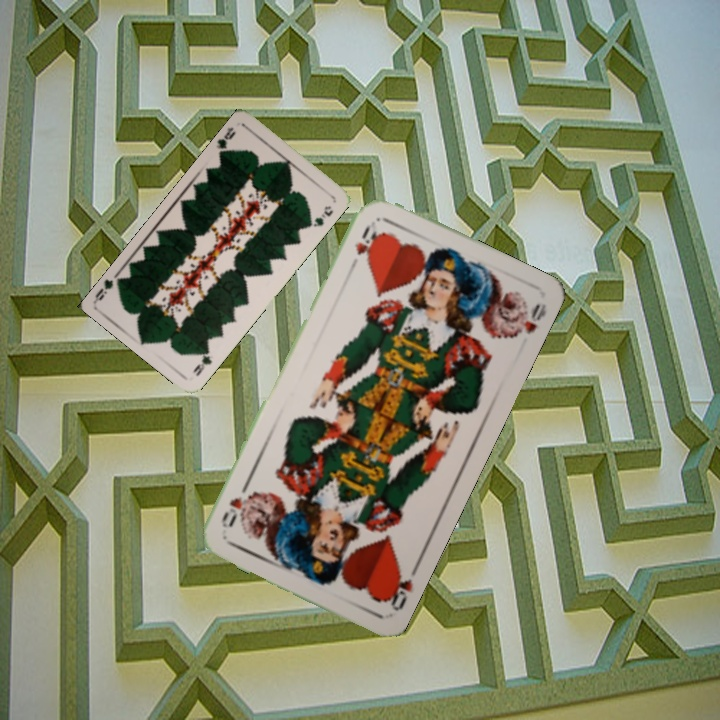G9: (212, 123, 238, 158), (189, 344, 215, 379)
HO: (380, 560, 422, 614), (345, 222, 380, 273)
